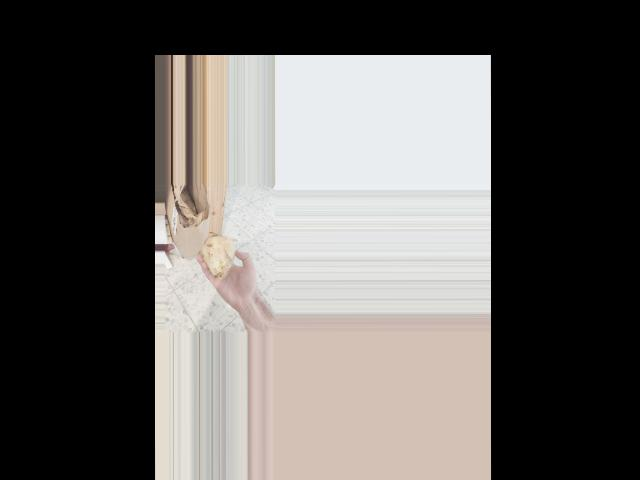onion: (198, 231, 236, 277)
